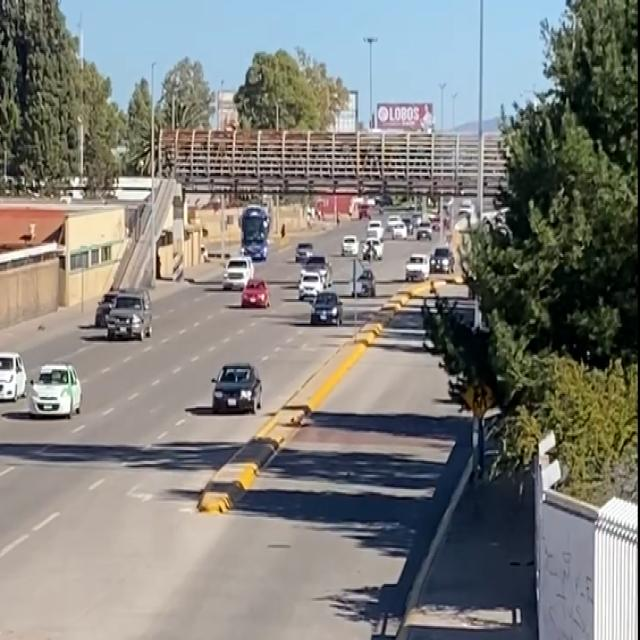Auto: (28, 362, 81, 421), (212, 362, 262, 415), (108, 296, 152, 344), (0, 352, 27, 405), (308, 294, 344, 325), (239, 282, 269, 310)
